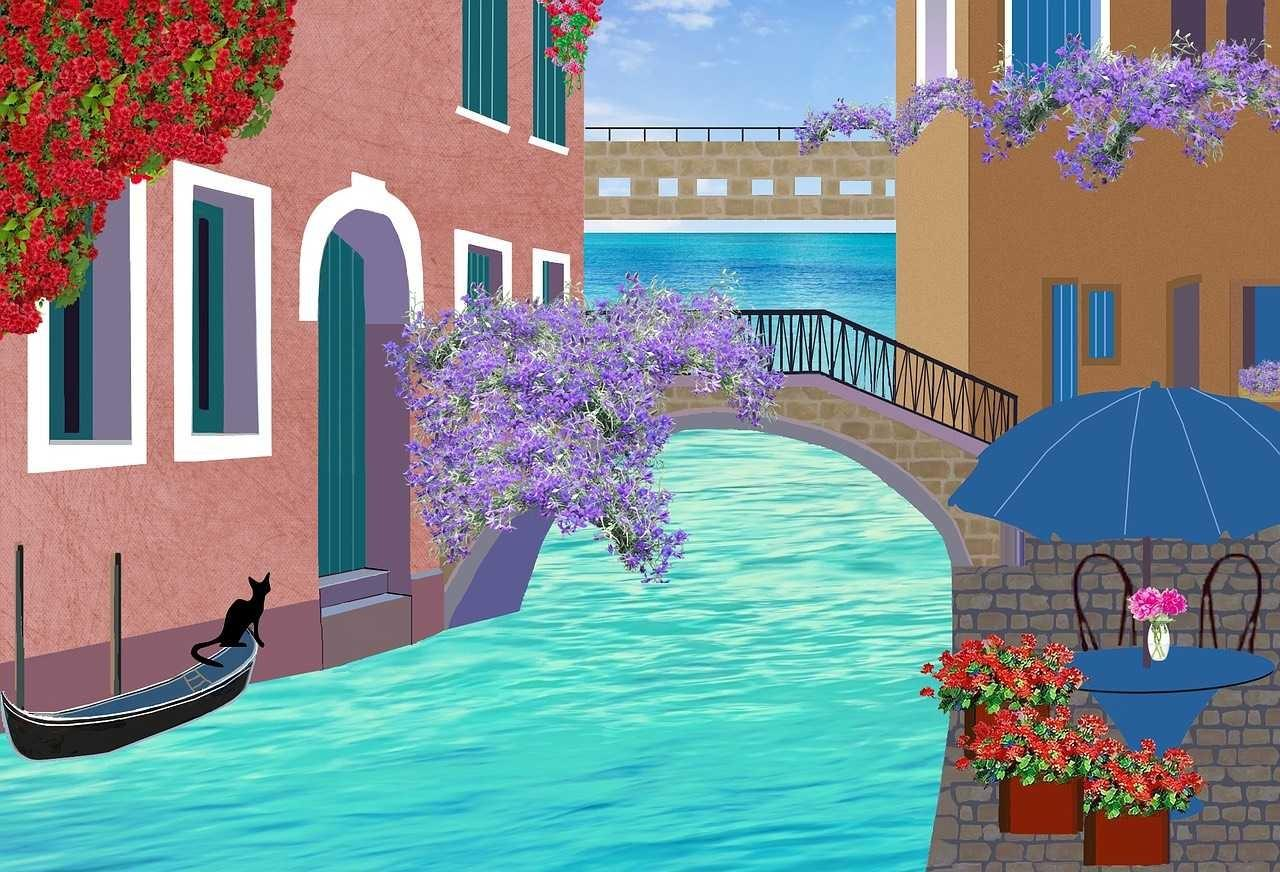kayak: (1, 554, 261, 759)
